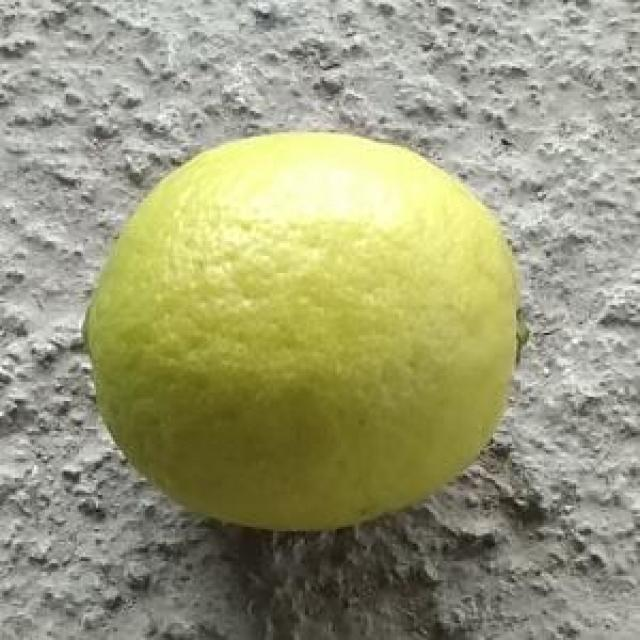lemon: (84, 130, 524, 530)
